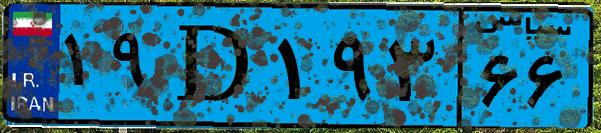1: (270, 28, 330, 110), (57, 26, 110, 100)
3: (385, 28, 445, 110)
6: (475, 38, 525, 113), (525, 38, 570, 115)
9: (330, 28, 385, 110), (110, 28, 158, 98)
D: (158, 12, 270, 120)
